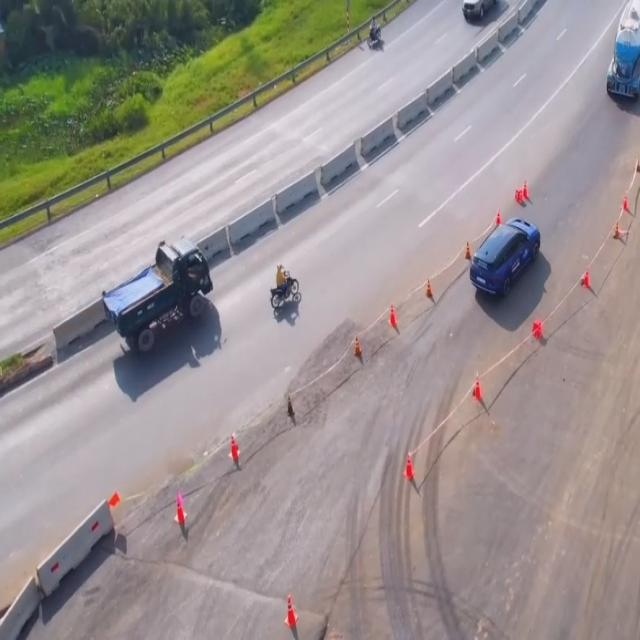car: (470, 219, 542, 295), (464, 1, 494, 24)
motorbike: (268, 262, 300, 311), (367, 16, 382, 54)
truck: (104, 239, 214, 356), (607, 0, 640, 105)
